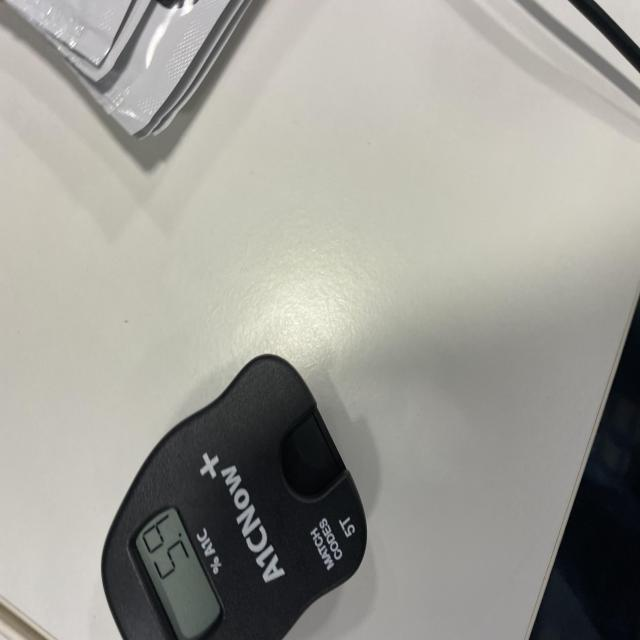hba1c: (99, 355, 369, 640)
